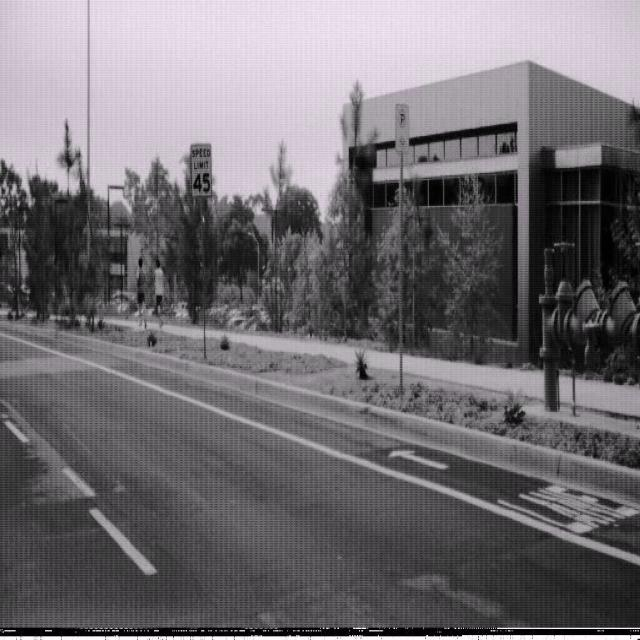speedLimit45: (190, 141, 212, 199)
